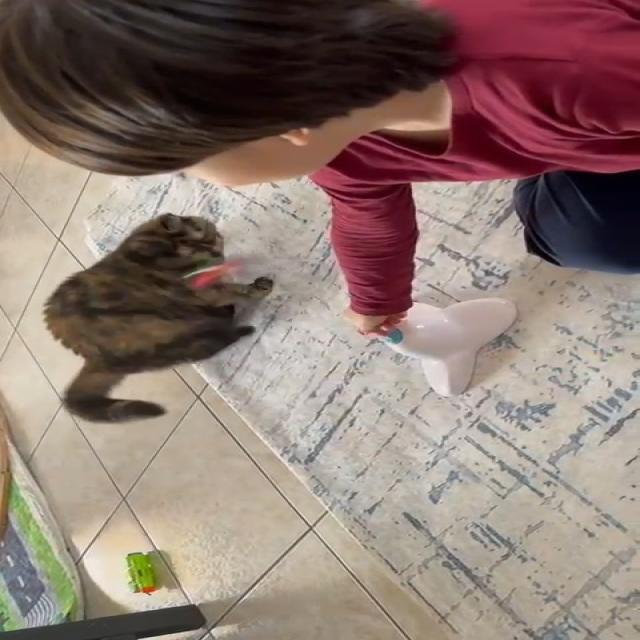authorized: (40, 212, 273, 424)
